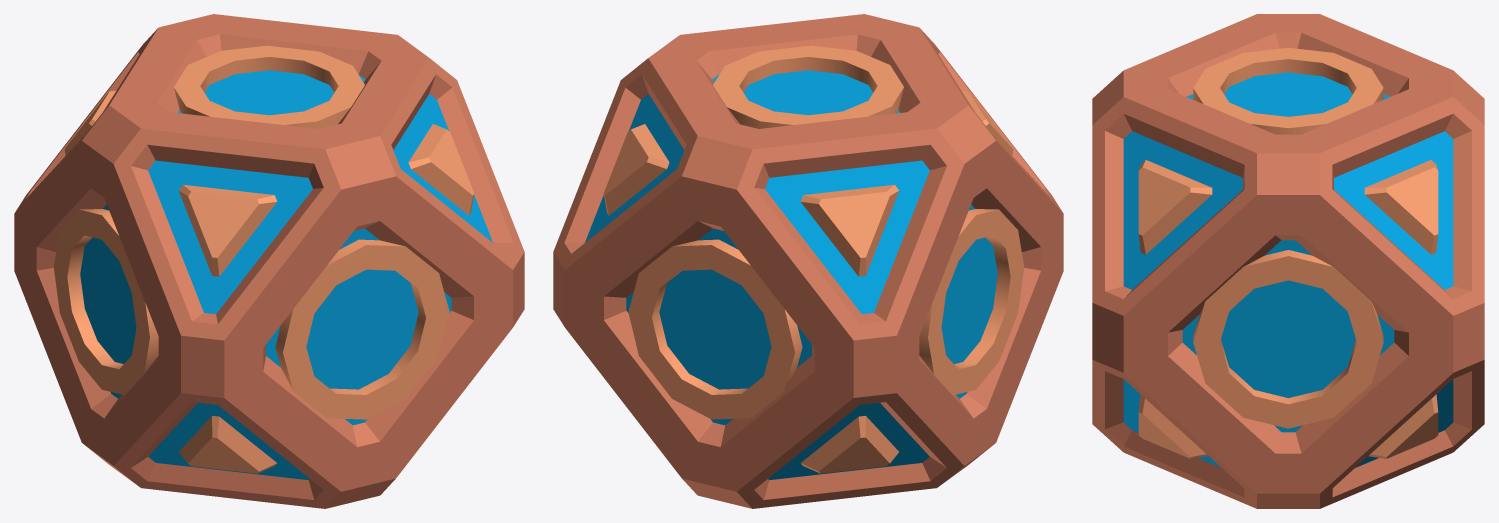
The model's file is Artifact_06.fbx.
3 views of the same model, side by side, from view 1: azimuth 30°, elevation 25°; view 2: azimuth 150°, elevation 25°; view 3: azimuth 270°, elevation 25° (orthographic).
Parts seen in each view (by area): view 1: Artifact_06; view 2: Artifact_06; view 3: Artifact_06.
Part boxes in pixels (bbox=[...]): Artifact_06: bbox=[14, 14, 524, 508]; Artifact_06: bbox=[553, 14, 1063, 508]; Artifact_06: bbox=[1092, 14, 1484, 508].
Size of the model in its own units: 100 by 100 by 100.
